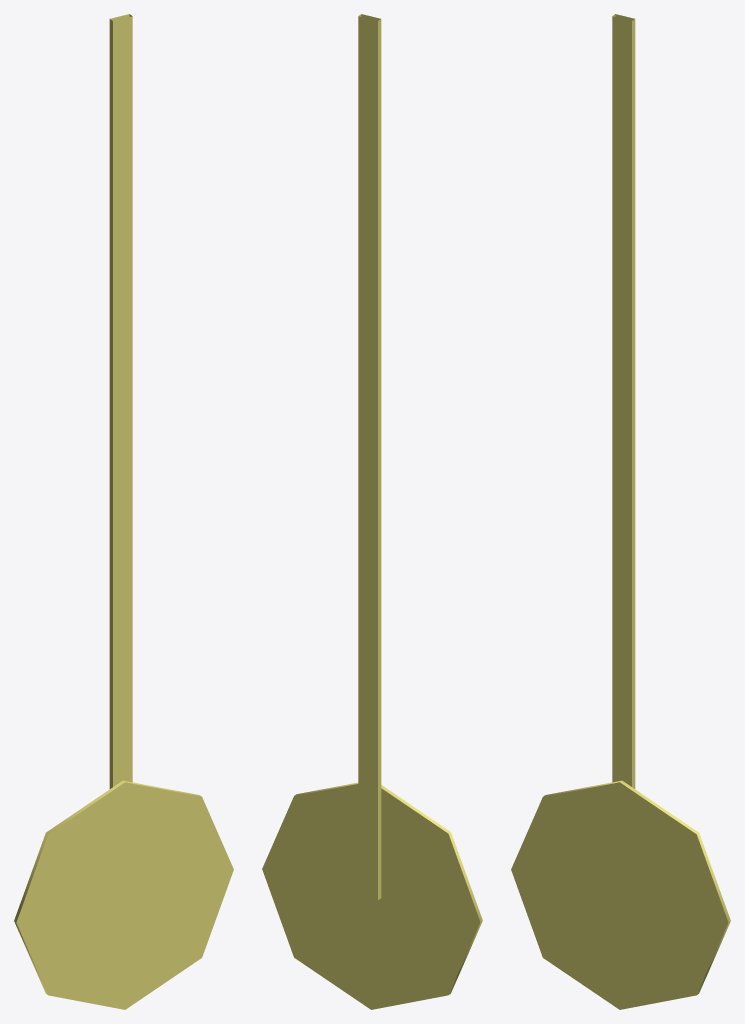
File: Itr_Obj_Grandfatherclock2_Pendulum_01.FBX
The picture shows the model from 3 angles, left to right: view 1: azimuth 30°, elevation 25°; view 2: azimuth 150°, elevation 25°; view 3: azimuth 330°, elevation 25°; orthographic projection.
Parts seen in each view (by area): view 1: Itr_Obj_Grandfatherclock2_Pendulum_01; view 2: Itr_Obj_Grandfatherclock2_Pendulum_01; view 3: Itr_Obj_Grandfatherclock2_Pendulum_01.
Boxes of the visible parts, <box> form: Itr_Obj_Grandfatherclock2_Pendulum_01: <box>14,14,233,1009</box>; Itr_Obj_Grandfatherclock2_Pendulum_01: <box>262,14,482,1009</box>; Itr_Obj_Grandfatherclock2_Pendulum_01: <box>511,14,730,1009</box>.
Size of the model in its own units: 6.22 by 27.05 by 0.2715.
